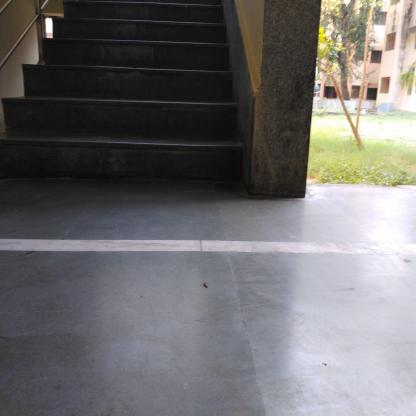stairs: (60, 4, 226, 190)
